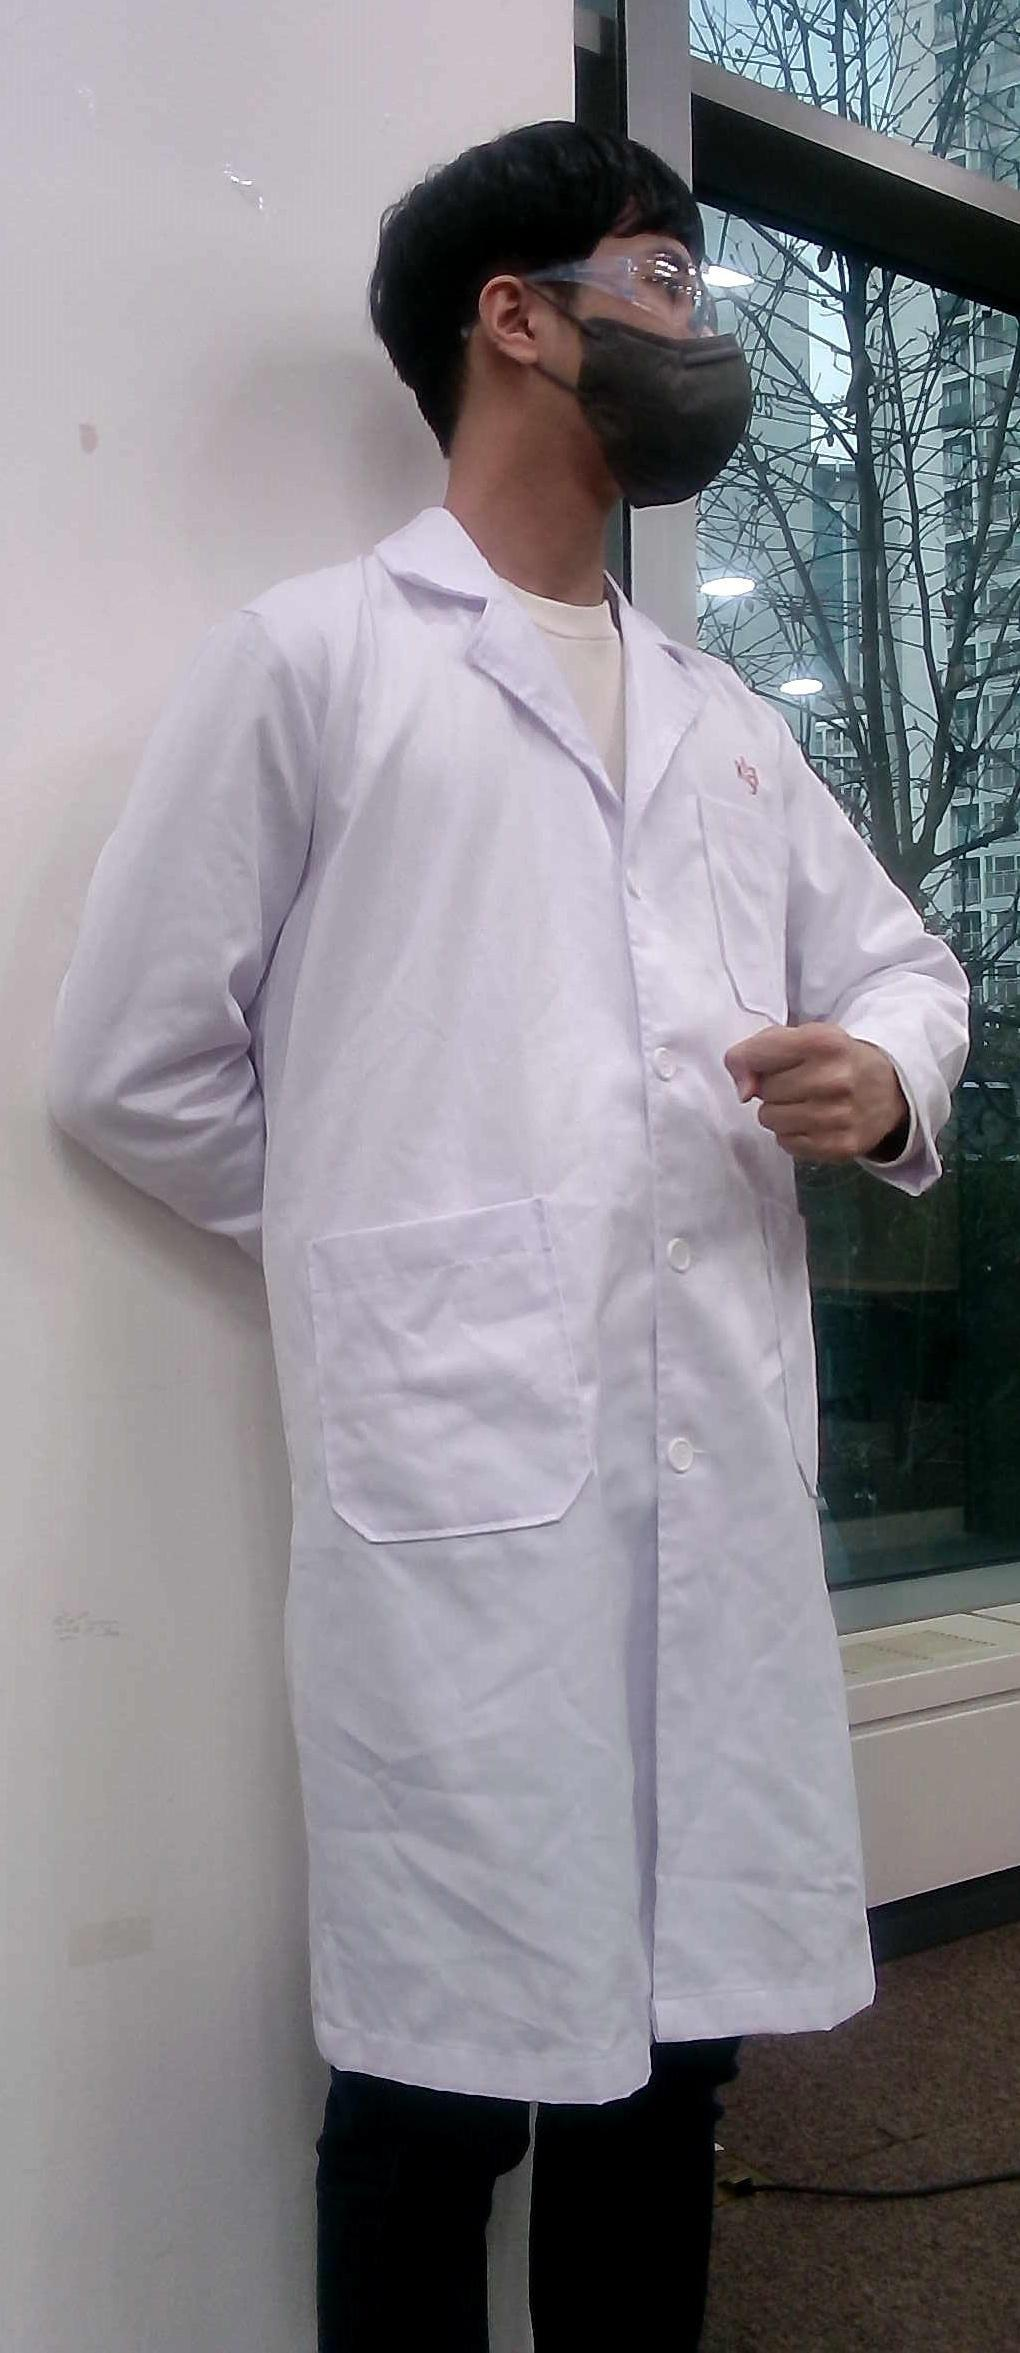lab_coat: (235, 686, 745, 2044)
